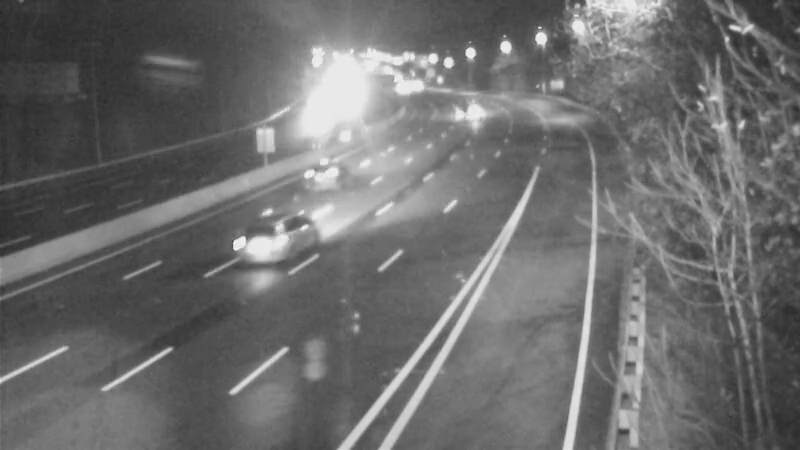vehicle: (285, 132, 365, 212), (214, 191, 294, 271), (377, 65, 427, 115), (446, 89, 496, 139)
